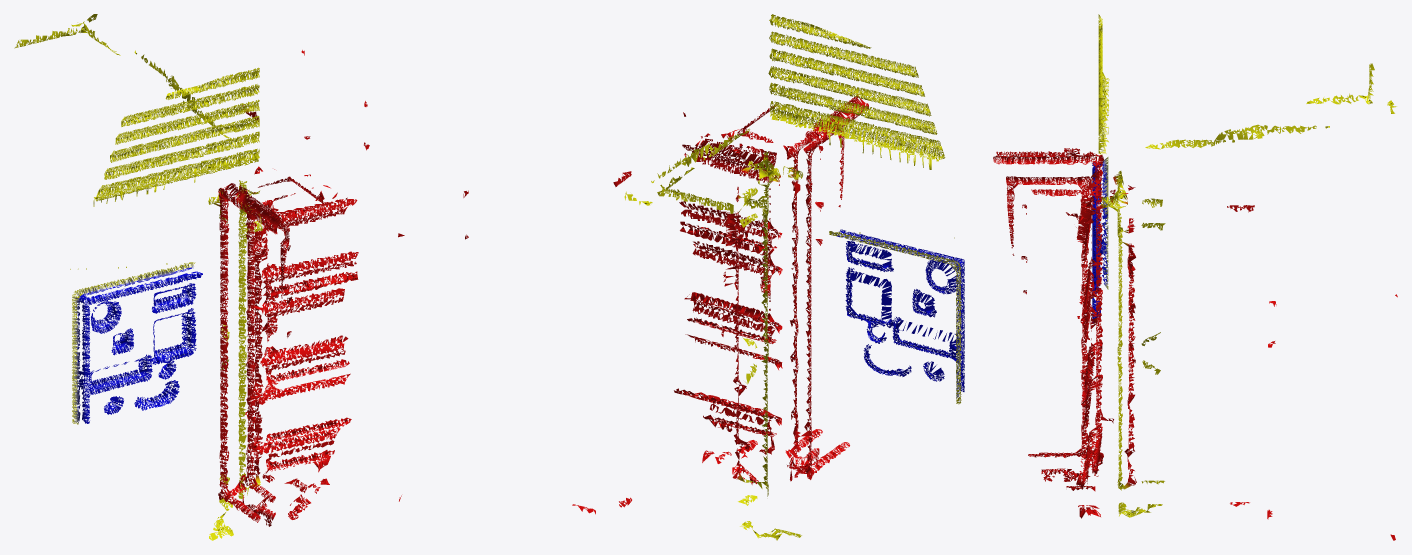
File: reconstructed.gltf
3 views of the same model, side by side, from view 1: azimuth 30°, elevation 25°; view 2: azimuth 150°, elevation 25°; view 3: azimuth 270°, elevation 25° (orthographic). The views are drawn at different scales.
Size of the model in its own units: 1.61 by 1.9 by 1.51.
